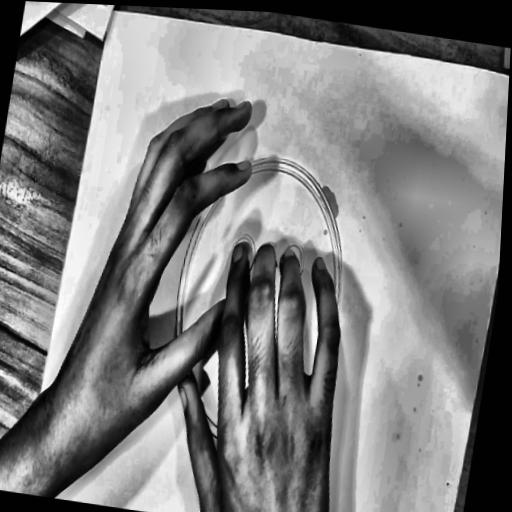button: (145, 140, 373, 472)
top_left: (105, 6, 114, 18)
